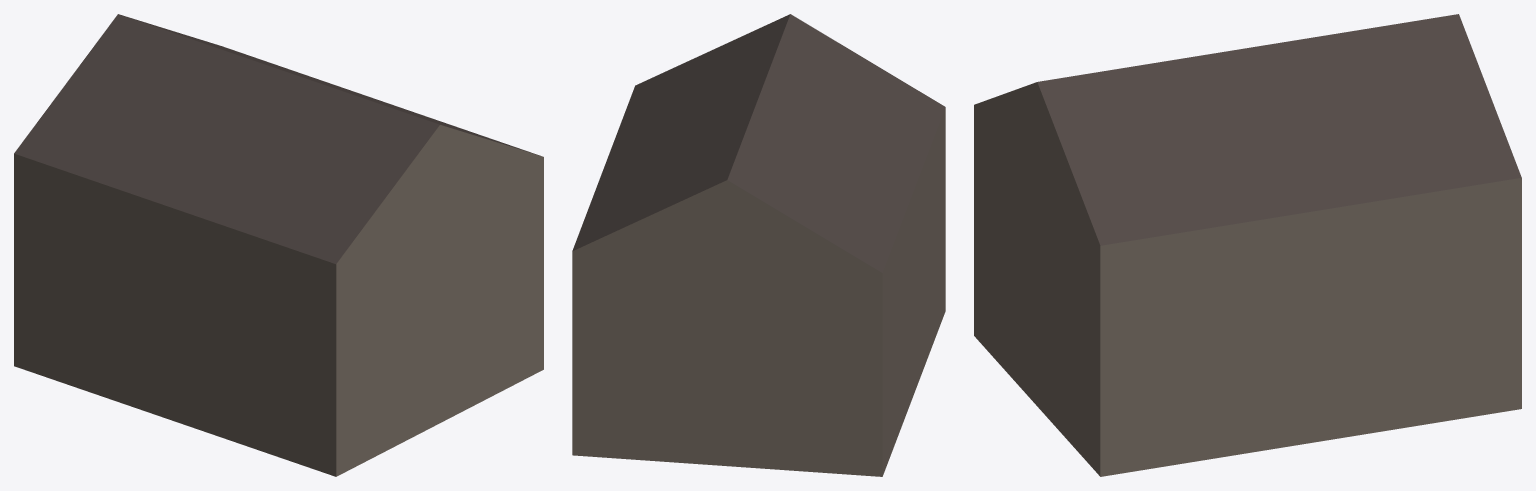
3 views of the same model, side by side, from view 1: azimuth 30°, elevation 25°; view 2: azimuth 150°, elevation 25°; view 3: azimuth 270°, elevation 25° (orthographic). The views are drawn at different scales.
Visible parts, largest first — view 1: HP-w1200835398; view 2: HP-w1200835398; view 3: HP-w1200835398.
Part boxes in pixels (<box>): HP-w1200835398: <box>14,14,543,476</box>; HP-w1200835398: <box>572,14,945,476</box>; HP-w1200835398: <box>974,14,1521,476</box>.
Bounding box in the file's own units: 11.63 × 8.42 × 12.88.
